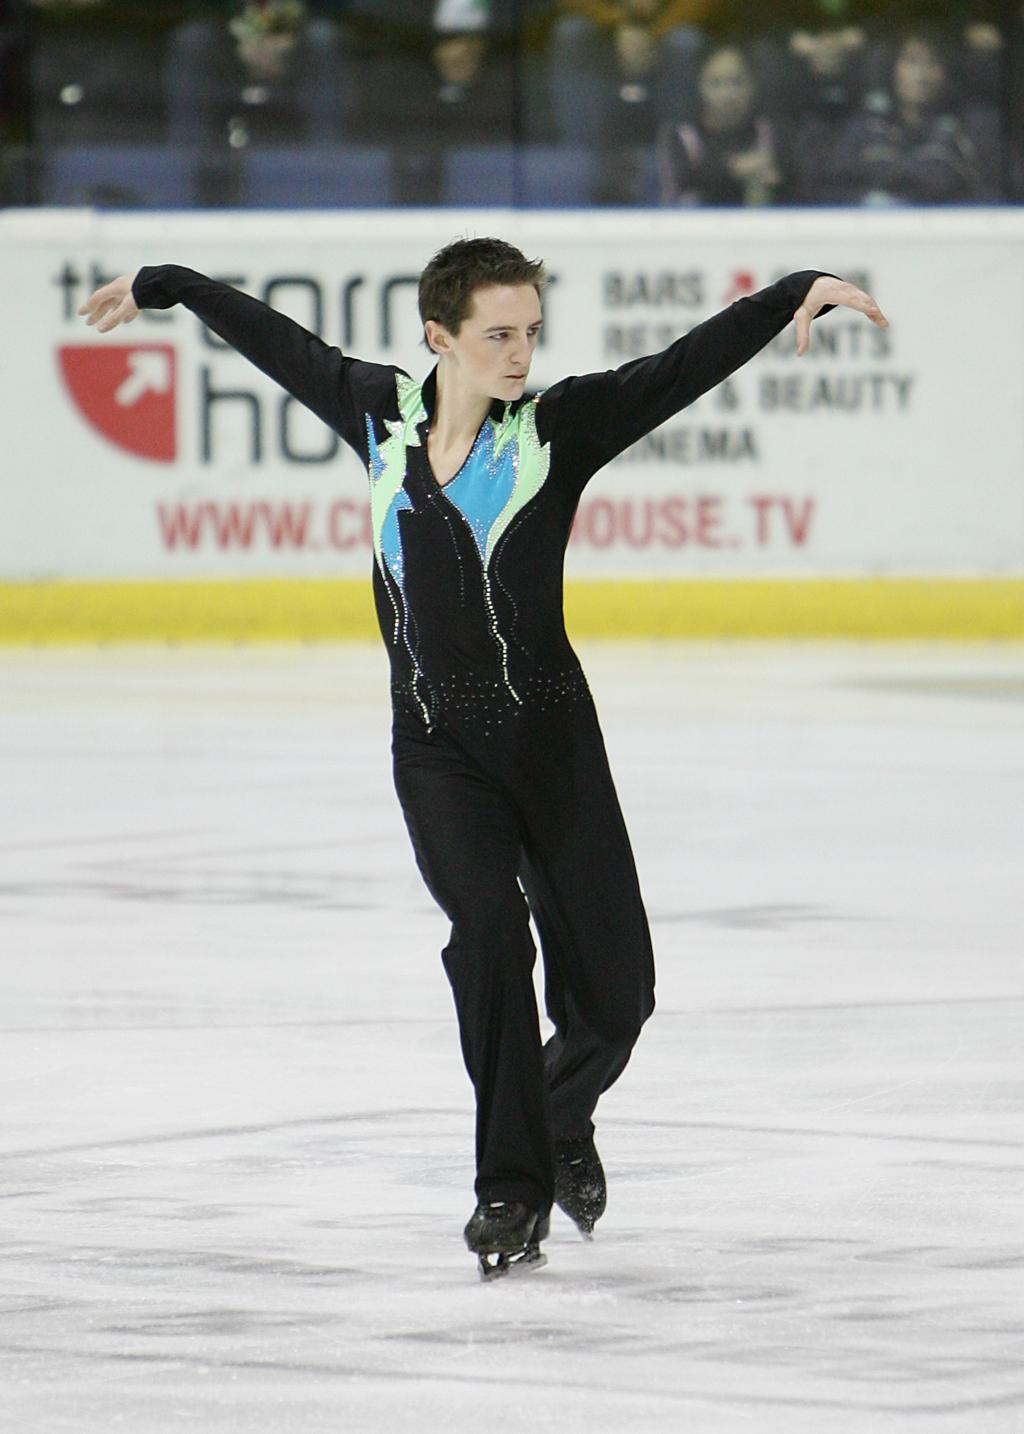face: (456, 284, 544, 400), (703, 49, 748, 122), (894, 42, 937, 103), (435, 36, 479, 78)
